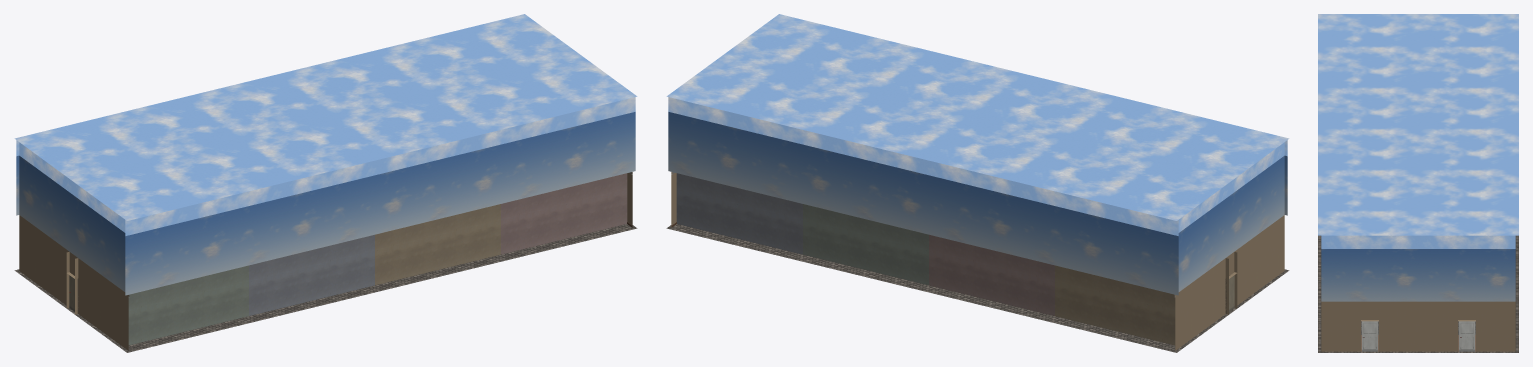
3 renders of one model, left to right at view 1: azimuth 30°, elevation 25°; view 2: azimuth 150°, elevation 25°; view 3: azimuth 270°, elevation 25°, orthographic. The views are drawn at different scales.
Parts seen in each view (by area): view 1: Sky_Glow, Sky_Mural, Facade_Rose, Facade_Blue, Facade_Ochre, Wall_Plaster, Facade_Mint, Floor_Cobble; view 2: Sky_Glow, Sky_Mural, Facade_Blue, Facade_Rose, Facade_Mint, Wall_Plaster, Facade_Ochre, Floor_Cobble; view 3: Sky_Glow, Sky_Mural, Wall_Plaster, Floor_Cobble, DoorLeaf_sky_hall_01, DoorLeaf_sky_hall_02.
Boxes of the visible parts, <box> form: Sky_Glow: <box>14,14,637,235</box>; Sky_Mural: <box>16,112,635,295</box>; Facade_Rose: <box>501,173,627,254</box>; Facade_Blue: <box>249,234,374,315</box>; Facade_Ochre: <box>375,204,500,285</box>; Wall_Plaster: <box>19,172,632,350</box>; Facade_Mint: <box>128,265,248,345</box>; Floor_Cobble: <box>14,224,637,352</box>; Sky_Glow: <box>666,14,1289,235</box>; Sky_Mural: <box>668,112,1287,295</box>; Facade_Blue: <box>676,173,802,254</box>; Facade_Rose: <box>929,234,1054,315</box>; Facade_Mint: <box>803,204,928,285</box>; Wall_Plaster: <box>671,172,1284,350</box>; Facade_Ochre: <box>1055,265,1175,345</box>; Floor_Cobble: <box>666,224,1289,352</box>; Sky_Glow: <box>1318,14,1518,248</box>; Sky_Mural: <box>1321,249,1515,301</box>; Wall_Plaster: <box>1321,301,1515,351</box>; Floor_Cobble: <box>1318,235,1518,352</box>; DoorLeaf_sky_hall_01: <box>1458,321,1475,351</box>; DoorLeaf_sky_hall_02: <box>1361,321,1378,351</box>.
Size of the model in its own units: 32.4 by 8 by 12.4.
Materials: 27 (22 with a texture image).
